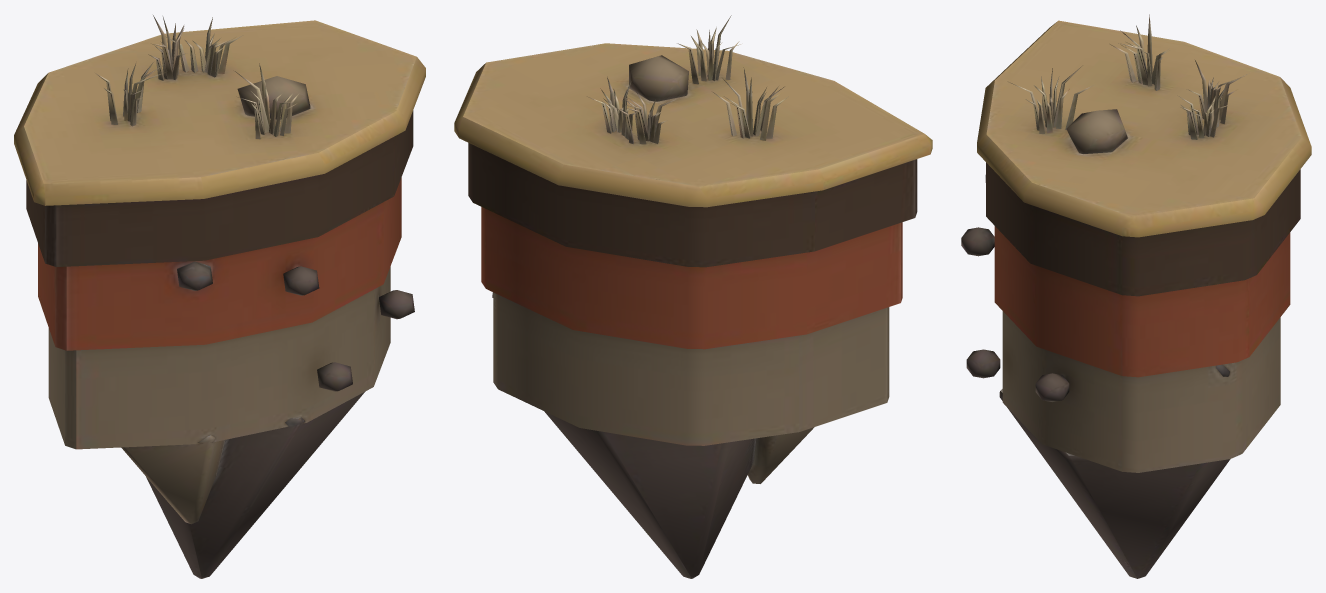
Rendered from earth_chunk_bush.glb.
The picture shows the model from 3 angles, left to right: view 1: azimuth 30°, elevation 25°; view 2: azimuth 150°, elevation 25°; view 3: azimuth 270°, elevation 25°; orthographic projection. The views are drawn at different scales.
Visible parts, largest first — view 1: earth_chunk_bush; view 2: earth_chunk_bush; view 3: earth_chunk_bush.
Part boxes in pixels (x1=…): earth_chunk_bush: x1=14, y1=15, x2=425, y2=578; earth_chunk_bush: x1=454, y1=15, x2=932, y2=578; earth_chunk_bush: x1=961, y1=14, x2=1311, y2=578.
Size of the model in its own units: 3.02 by 3.58 by 2.2.
1 material, 1 textured.
